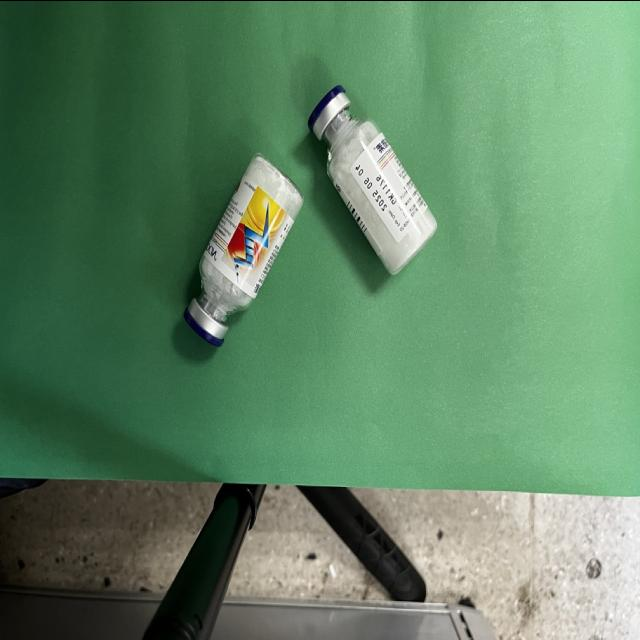Vials: (309, 87, 437, 273), (184, 155, 302, 344)
